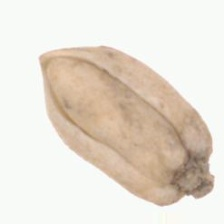L1: (169, 151, 216, 203), (38, 45, 63, 92)
L2: (38, 45, 215, 206)
